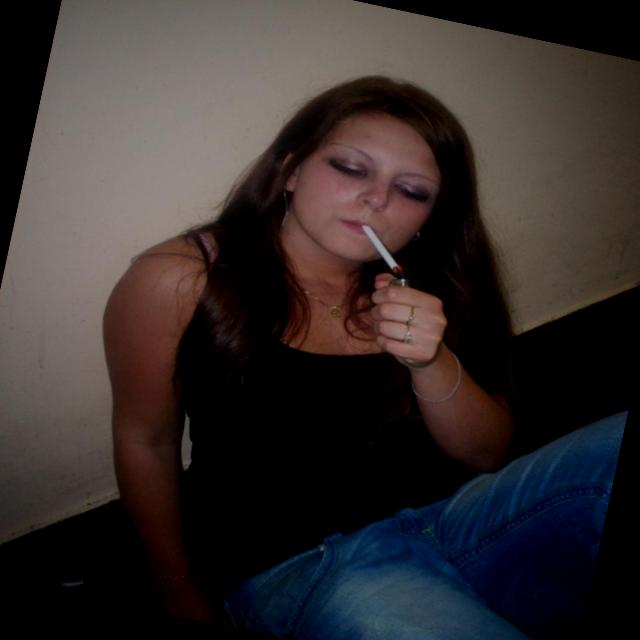cigarette: (344, 214, 425, 289)
